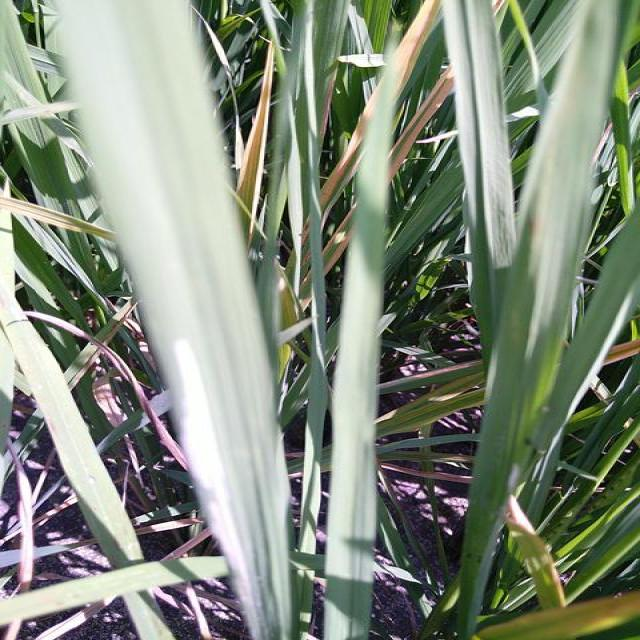Leaf Blight: (25, 312, 188, 470), (236, 41, 276, 238), (375, 372, 487, 438), (472, 595, 639, 639), (391, 64, 452, 177), (507, 497, 567, 610), (0, 196, 117, 241), (392, 0, 441, 94), (319, 112, 365, 206), (9, 438, 33, 592), (323, 201, 357, 277), (95, 297, 137, 345), (95, 368, 127, 428), (63, 342, 103, 390), (296, 220, 317, 311), (381, 464, 473, 484), (136, 512, 201, 536), (277, 274, 301, 330), (125, 434, 145, 489), (40, 539, 99, 557), (604, 337, 639, 365), (277, 344, 293, 377)
